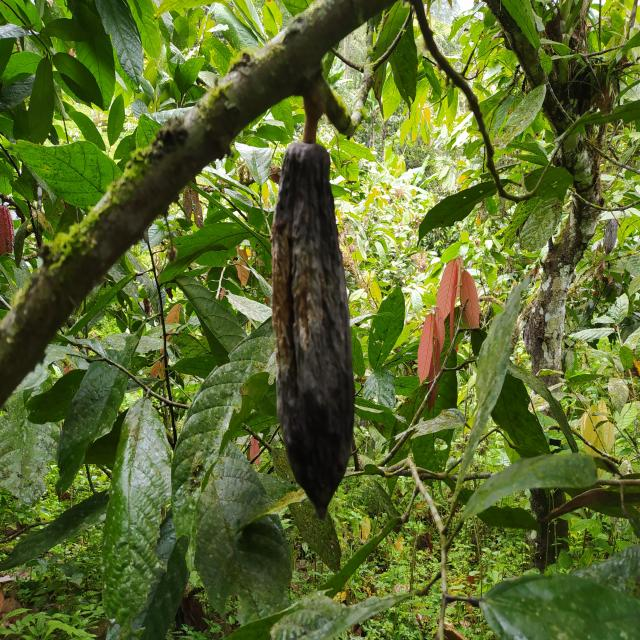Fitoftora: (270, 136, 357, 516)
